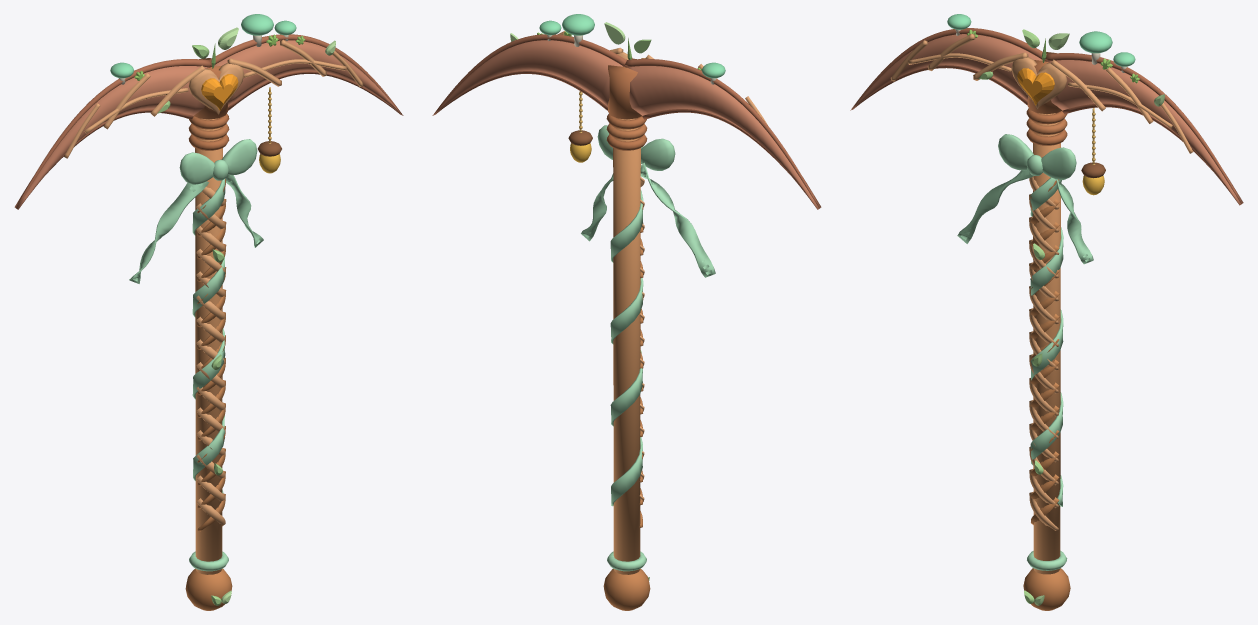
The model's file is RootheartPickaxe.glb.
3 renders of one model, left to right at view 1: azimuth 30°, elevation 25°; view 2: azimuth 150°, elevation 25°; view 3: azimuth 330°, elevation 25°, orthographic.
Parts seen in each view (by area): view 1: RootheartPickaxe_SmoothPlastic, RootheartPickaxe_Glass; view 2: RootheartPickaxe_SmoothPlastic; view 3: RootheartPickaxe_SmoothPlastic, RootheartPickaxe_Glass.
Part boxes in pixels (left/top/right/bottom): RootheartPickaxe_SmoothPlastic: left=14, top=14, right=403, bottom=610; RootheartPickaxe_Glass: left=201, top=74, right=280, bottom=173; RootheartPickaxe_SmoothPlastic: left=432, top=14, right=821, bottom=610; RootheartPickaxe_SmoothPlastic: left=850, top=14, right=1243, bottom=610; RootheartPickaxe_Glass: left=1017, top=68, right=1104, bottom=195.
Bounding box in the file's own units: 3.03 × 4.35 × 0.3628.
3 materials, 3 textured.
